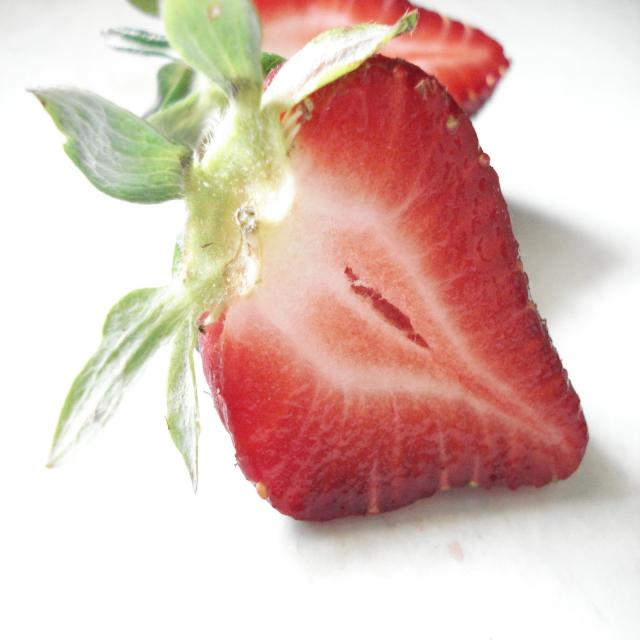strawberry: (47, 27, 598, 518)
